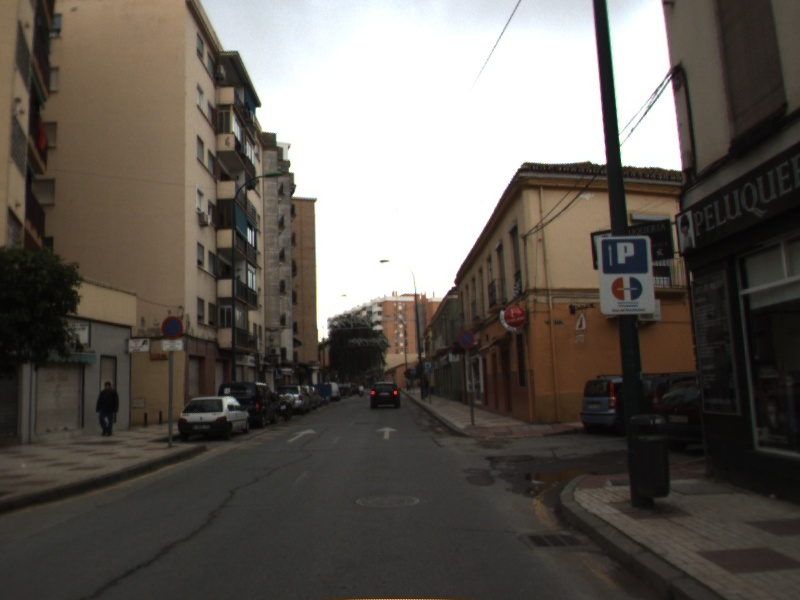STRAIGHT: (284, 426, 318, 445), (374, 424, 400, 441)
